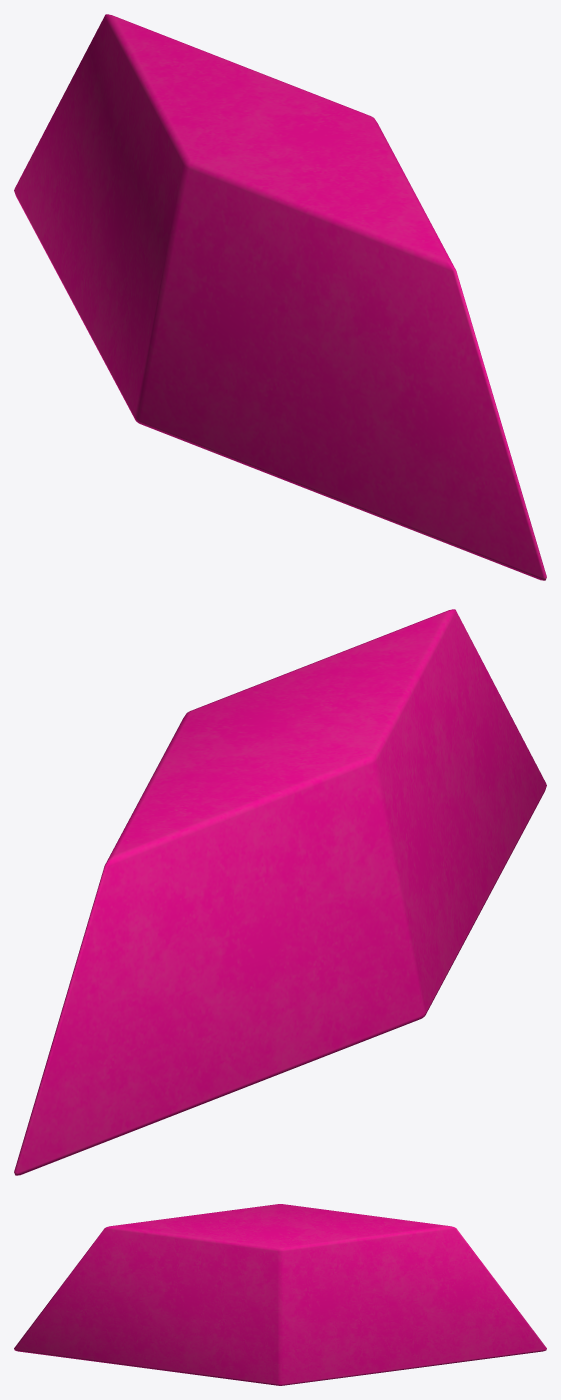
File: Skeeball_Obstacle.glb
3 views of the same model, one above another, from view 1: azimuth 30°, elevation 25°; view 2: azimuth 150°, elevation 25°; view 3: azimuth 270°, elevation 25° (orthographic). The views are drawn at different scales.
Parts seen in each view (by area): view 1: Obstacle; view 2: Obstacle; view 3: Obstacle.
Part boxes in pixels (bbox=[...]): Obstacle: bbox=[14, 14, 546, 580]; Obstacle: bbox=[14, 609, 546, 1175]; Obstacle: bbox=[14, 1204, 546, 1385].
Size of the model in its own units: 0.3167 by 0.264 by 1.01.
1 material, 1 textured.
